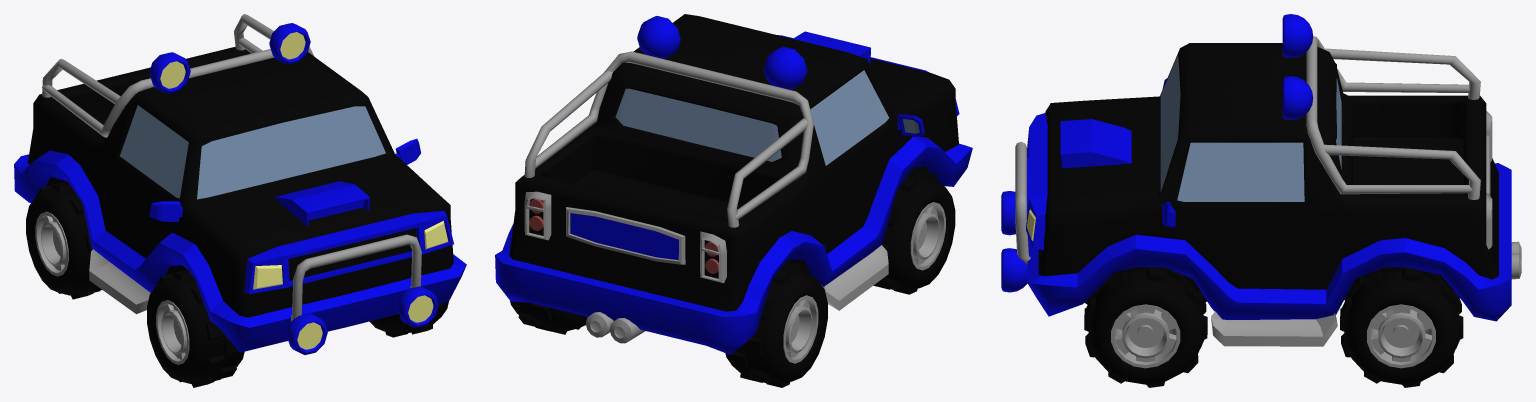
The model's file is Ranger Evolution3 Blue Black DarkIndigo LightGrey Horn1 Horn5.glb.
The picture shows the model from 3 angles, left to right: view 1: azimuth 30°, elevation 25°; view 2: azimuth 150°, elevation 25°; view 3: azimuth 270°, elevation 25°; orthographic projection. The views are drawn at different scales.
Visible parts, largest first — view 1: evo3_bodyEvo:PIV, evo3_sill3:PIV, evo3_glassFront:PIV, evo3_tireFR:PIV, evo3_blockFront:PIV, evo3_tireBL:PIV, evo3_pole_back4:PIV, evo3_glassR:PIV, evo3_HoleFront:PIV, evo3_pole_front4:PIV, evo3_footStepR, evo3_blockFrontb:PIV (+15 smaller); view 2: evo3_bodyEvo:PIV, evo3_sill3:PIV, evo3_pole_back4:PIV, evo3_glassBack:PIV, evo3_tireBL:PIV, evo3_tireFR:PIV, evo3_glassR:PIV, evo3_plackBack:PIV, evo3_footStepR, evo3_rimFR:PIV, evo3_rimBR:PIV, evo3_blockBlack:PIV (+7 smaller); view 3: evo3_bodyEvo:PIV, evo3_sill3:PIV, evo3_tireBR:PIV, evo3_tireFL:PIV, evo3_pole_back4:PIV, evo3_glassL:PIV, evo3_rimFL:PIV, evo3_rimBL:PIV, evo3_footstepL, evo3_HoleFront:PIV, evo3_blockFront:PIV, evo3_glassFront:PIV (+5 smaller).
Part boxes in pixels (x1,y1,x2,y2): evo3_bodyEvo:PIV: (27,46,453,317); evo3_sill3:PIV: (14,150,466,352); evo3_glassFront:PIV: (197,106,385,199); evo3_tireFR:PIV: (147,269,244,387); evo3_blockFront:PIV: (243,211,453,294); evo3_tireBL:PIV: (26,181,101,299); evo3_pole_back4:PIV: (42,14,314,137); evo3_glassR:PIV: (120,105,188,198); evo3_HoleFront:PIV: (274,181,369,225); evo3_pole_front4:PIV: (291,234,421,321); evo3_footStepR: (89,249,150,314); evo3_blockFrontb:PIV: (288,228,416,280); evo3_bodyEvo:PIV: (509,14,958,311); evo3_sill3:PIV: (495,136,972,354); evo3_pole_back4:PIV: (524,51,813,227); evo3_glassBack:PIV: (615,88,781,161); evo3_tireBL:PIV: (725,262,827,387); evo3_tireFR:PIV: (873,169,955,294); evo3_glassR:PIV: (810,70,888,165); evo3_plackBack:PIV: (570,213,678,259); evo3_footStepR: (821,245,888,310); evo3_rimFR:PIV: (910,202,945,270); evo3_rimBR:PIV: (783,295,818,363); evo3_blockBlack:PIV: (566,207,685,264); evo3_bodyEvo:PIV: (1038,43,1498,289); evo3_sill3:PIV: (1027,163,1511,321); evo3_tireBR:PIV: (1340,267,1463,387); evo3_tireFL:PIV: (1084,266,1207,387); evo3_pole_back4:PIV: (1306,36,1480,199); evo3_glassL:PIV: (1177,142,1304,201); evo3_rimFL:PIV: (1111,304,1180,368); evo3_rimBL:PIV: (1367,304,1435,368); evo3_footstepL: (1211,311,1337,346); evo3_HoleFront:PIV: (1060,119,1131,168); evo3_blockFront:PIV: (1026,113,1047,249); evo3_glassFront:PIV: (1160,55,1180,192).
Bounding box in the file's own units: 187 × 175 × 295.
